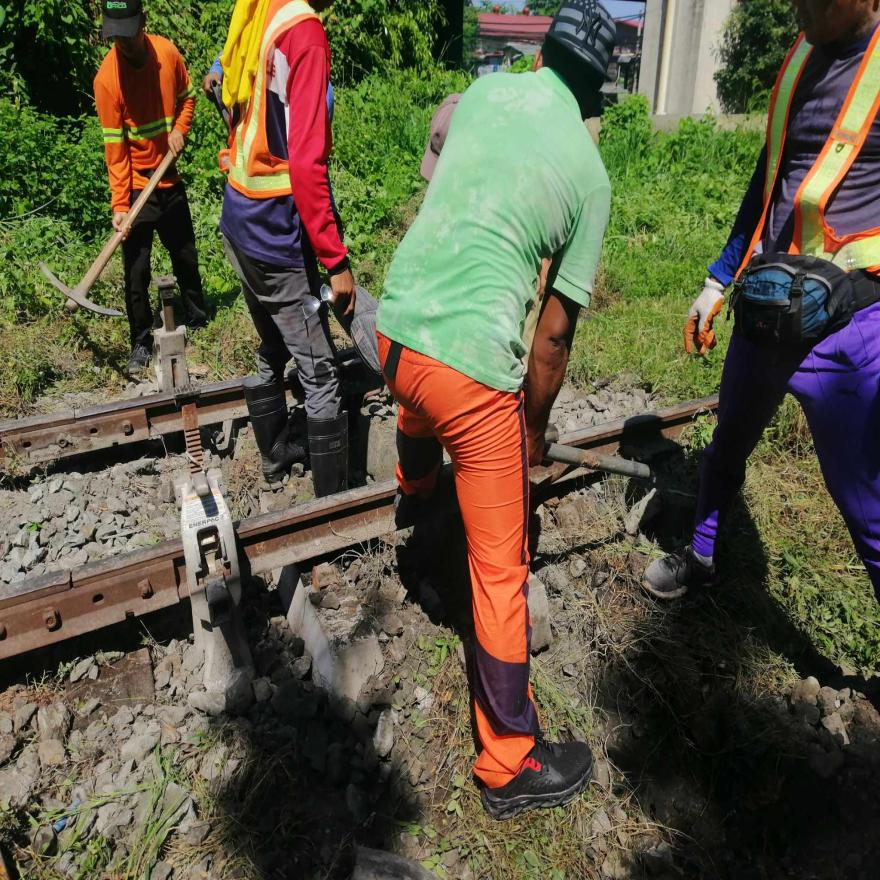railway-gap: (46, 546, 95, 612), (53, 391, 97, 447)
